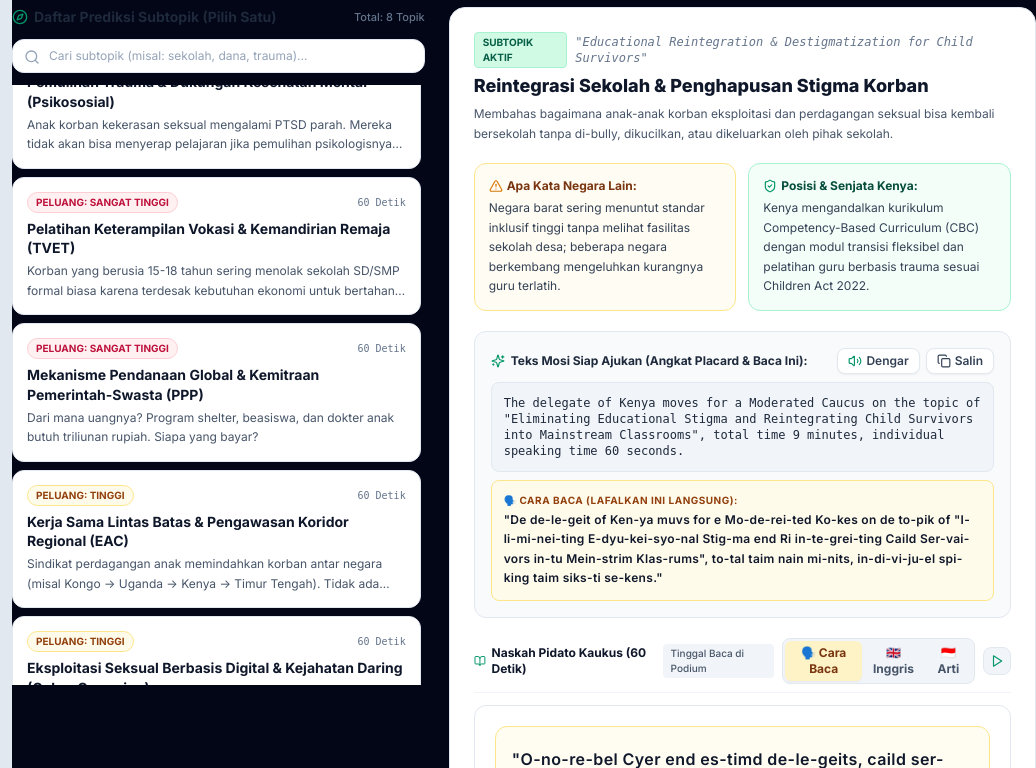
DebateRadar Component › switches between subtopics and displays motion and ready speech
(page scrolled)
Expected: the text "Teks Mosi Siap Ajukan (Angkat Placard & Baca Ini):" is shown, [491,352,808,368]
Expected: the text "Naskah Pidato Kaukus (60 Detik)" is shown, [474,644,655,676]
# Click on another subtopic
Click the heading "Mekanisme Pendanaan Global": [173, 384] box [27,366,319,403]
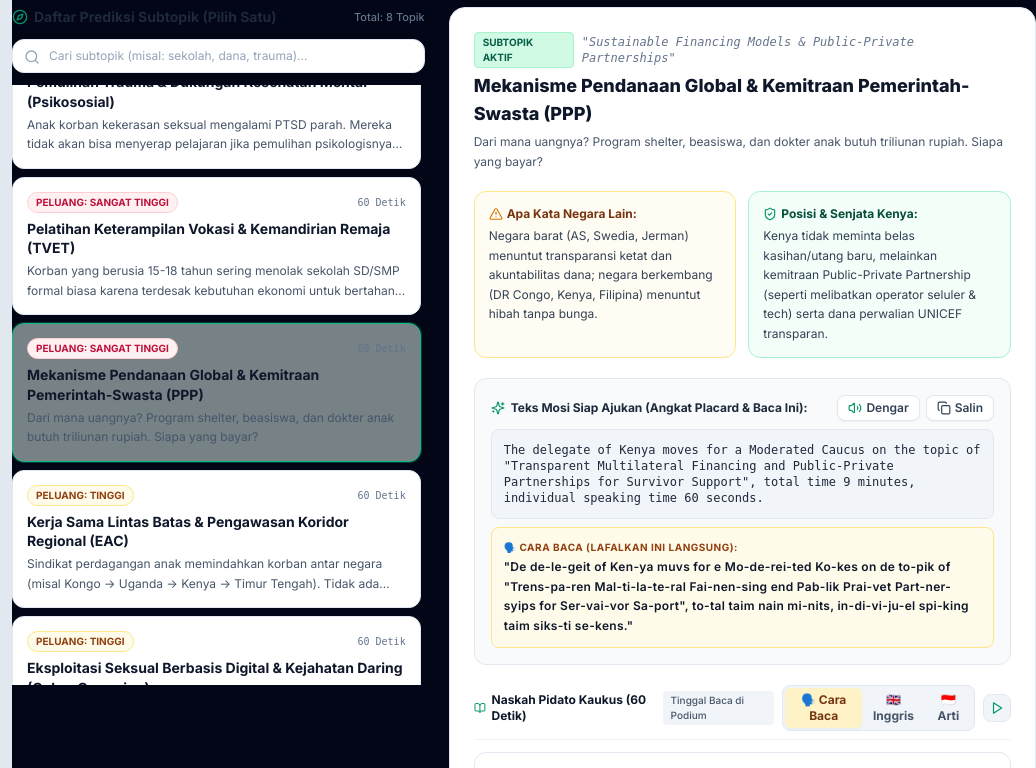
Expected: the text "Transparent Multilateral Financing" is shown, [504,443,980,505]
